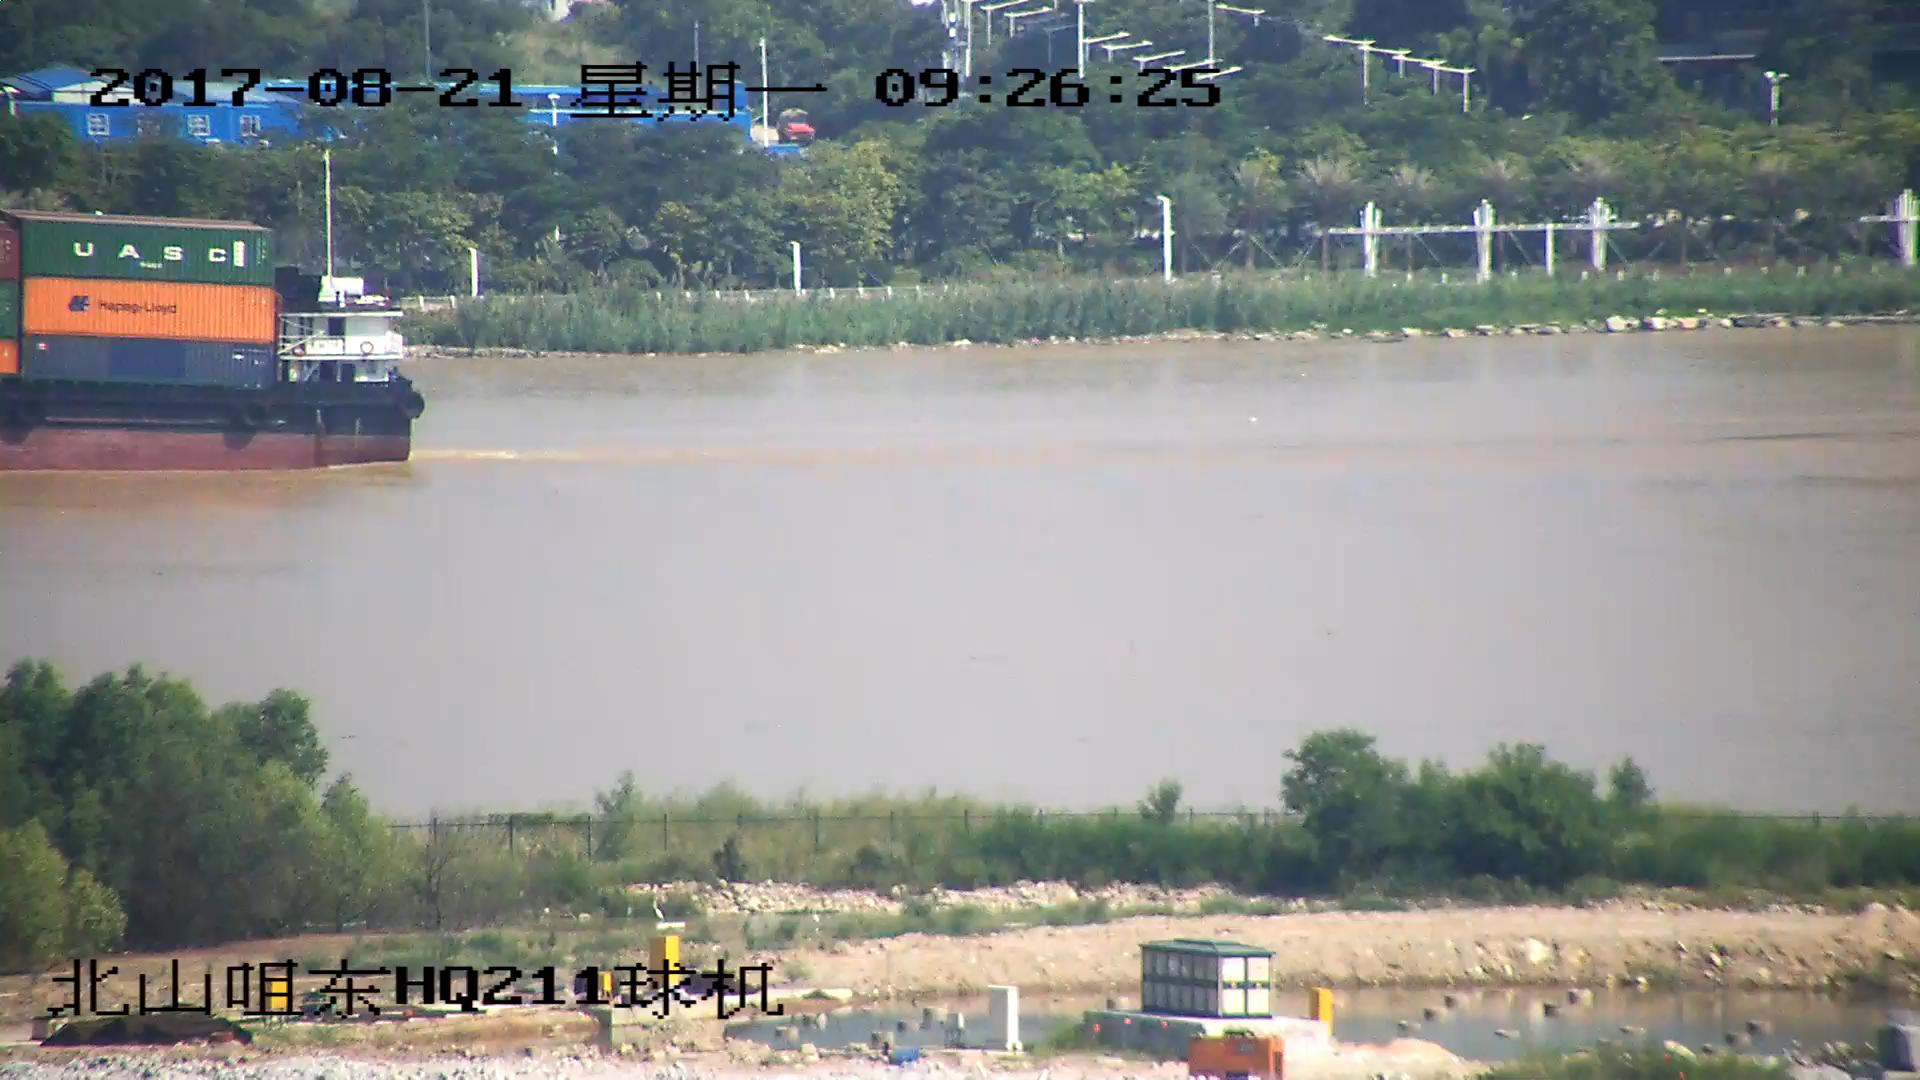container ship: (1, 155, 419, 478)
